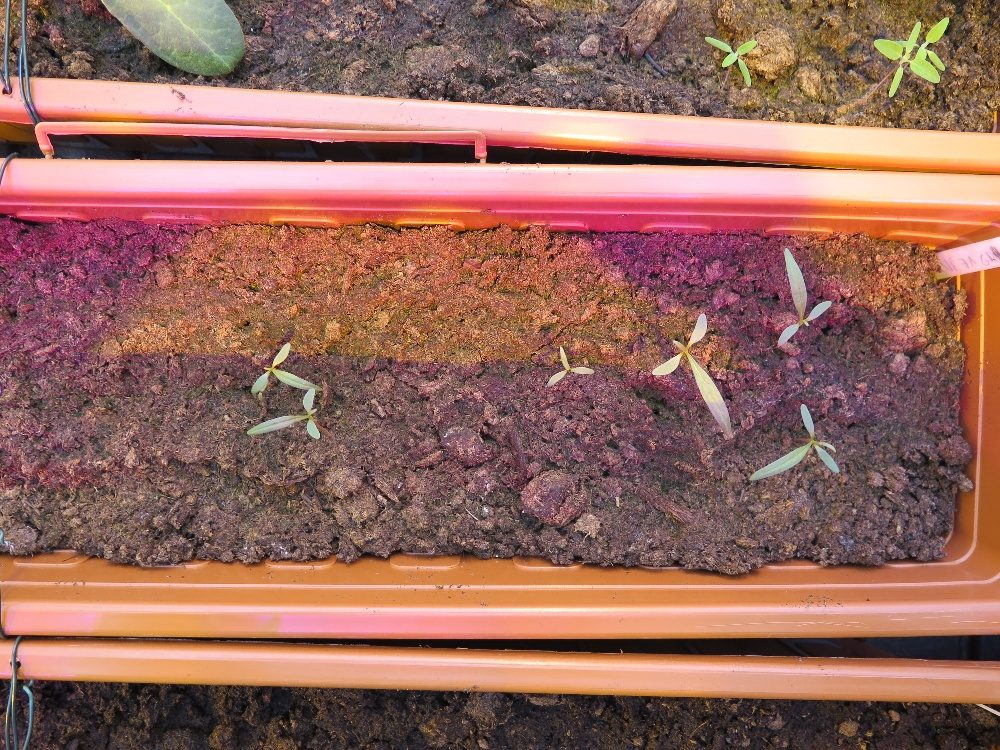weed: (646, 290, 755, 442), (237, 329, 346, 463), (750, 395, 852, 506), (864, 4, 968, 92), (766, 238, 839, 363), (684, 13, 764, 88), (523, 326, 587, 386)
